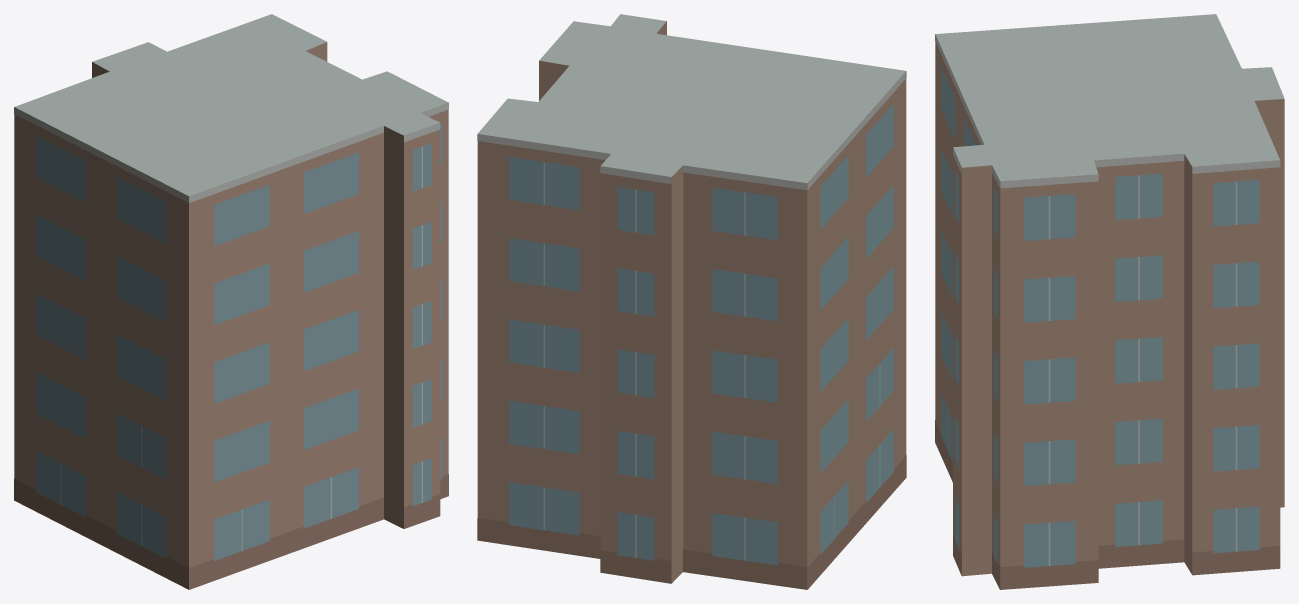
Rendered from survey-upis-32704824.glb.
3 renders of one model, left to right at view 1: azimuth 30°, elevation 25°; view 2: azimuth 150°, elevation 25°; view 3: azimuth 270°, elevation 25°, orthographic. The views are drawn at different scales.
Parts seen in each view (by area): view 1: survey-upis-32704824.tmp; view 2: survey-upis-32704824.tmp; view 3: survey-upis-32704824.tmp.
Boxes of the visible parts, x1,y1,x2,y2 form: survey-upis-32704824.tmp: [14, 14, 448, 589]; survey-upis-32704824.tmp: [477, 14, 906, 589]; survey-upis-32704824.tmp: [935, 14, 1284, 589].
Bounding box in the file's own units: 12.4 × 14.1 × 10.94.
